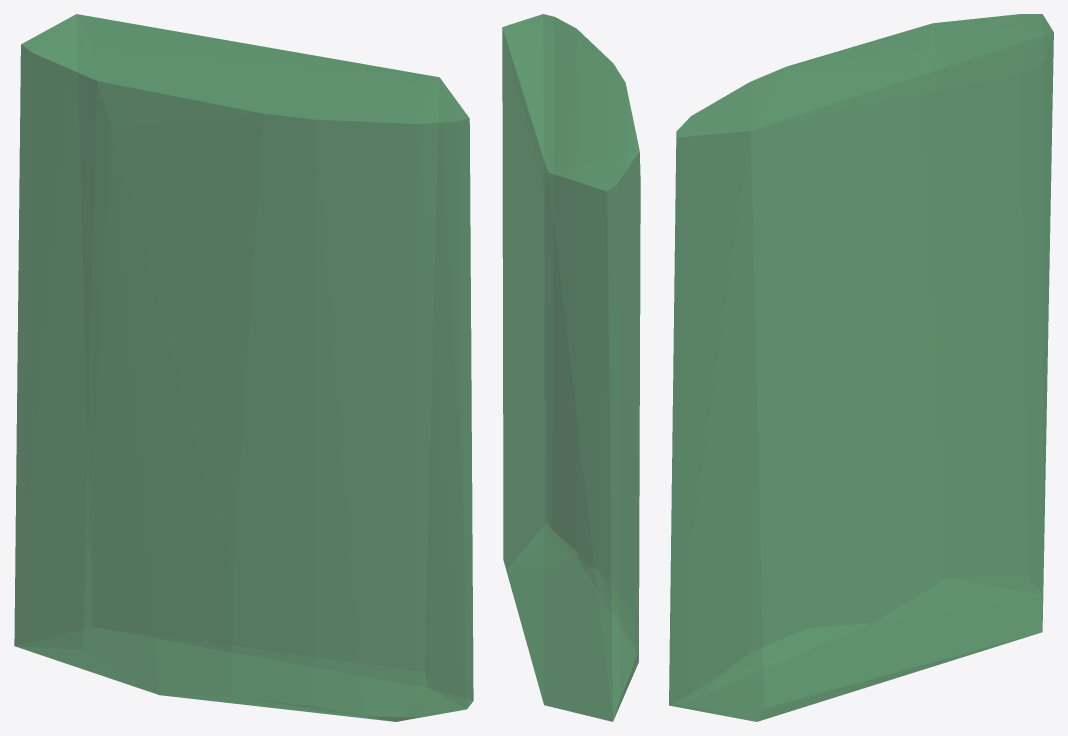
The picture shows the model from 3 angles, left to right: view 1: azimuth 30°, elevation 25°; view 2: azimuth 150°, elevation 25°; view 3: azimuth 270°, elevation 25°; orthographic projection. The views are drawn at different scales.
Parts seen in each view (by area): view 1: Shape_IndexedFaceSet.008_Shape_IndexedFaceSet.18069; view 2: Shape_IndexedFaceSet.008_Shape_IndexedFaceSet.18069; view 3: Shape_IndexedFaceSet.008_Shape_IndexedFaceSet.18069.
Boxes of the visible parts, x1,y1,x2,y2 form: Shape_IndexedFaceSet.008_Shape_IndexedFaceSet.18069: (14,14,473,721); Shape_IndexedFaceSet.008_Shape_IndexedFaceSet.18069: (502,14,640,721); Shape_IndexedFaceSet.008_Shape_IndexedFaceSet.18069: (669,14,1053,721).
Size of the model in its own units: 0.1248 by 0.2647 by 0.1552.
